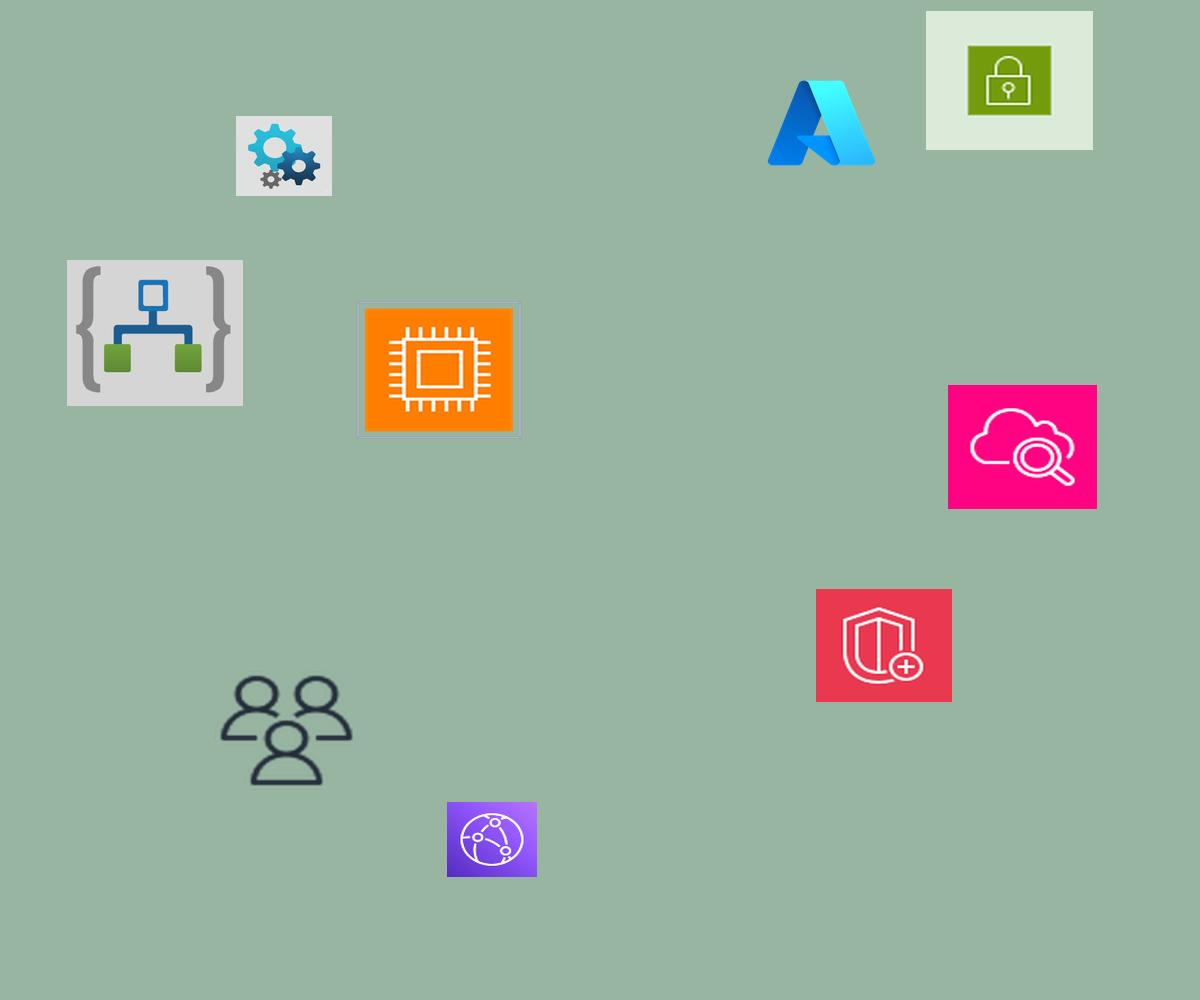AWS-Category_Compute: (356, 301, 522, 439)
AWS-CloudFront: (447, 802, 537, 877)
AWS-CloudWatch: (948, 385, 1097, 509)
AWS-Public-subnet: (926, 11, 1093, 150)
AWS-Res_Users: (215, 671, 358, 790)
AWS-Shield: (816, 589, 952, 702)
Azure_api: (236, 116, 332, 196)
Azure_integration-204-Logic-Apps: (67, 260, 243, 406)
Azure_services: (763, 74, 880, 172)
